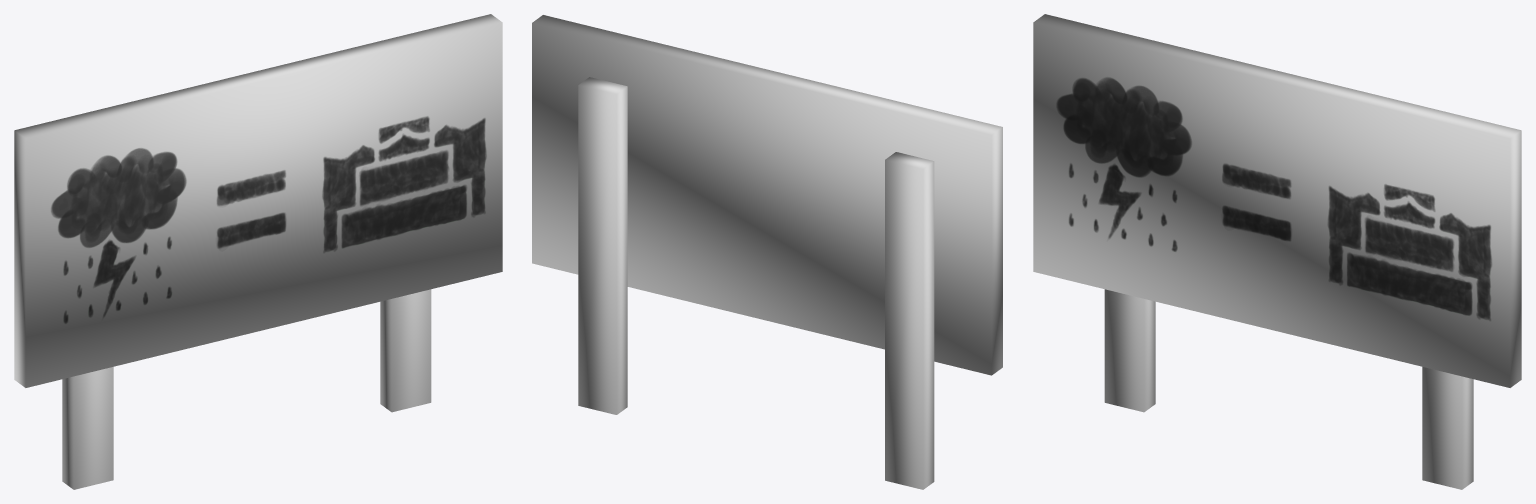
The model's file is wooden_sign.glb.
3 views of the same model, side by side, from view 1: azimuth 30°, elevation 25°; view 2: azimuth 150°, elevation 25°; view 3: azimuth 330°, elevation 25° (orthographic). The views are drawn at different scales.
Parts seen in each view (by area): view 1: stktex_generic_WoodA.png__, stktex_temple_floodWarning_a.png__; view 2: stktex_generic_WoodA.png__; view 3: stktex_generic_WoodA.png__, stktex_temple_floodWarning_a.png__.
Boxes of the visible parts, <box> form: stktex_generic_WoodA.png__: <box>14,14,502,489</box>; stktex_temple_floodWarning_a.png__: <box>51,116,486,323</box>; stktex_generic_WoodA.png__: <box>532,15,1002,489</box>; stktex_generic_WoodA.png__: <box>1033,14,1521,489</box>; stktex_temple_floodWarning_a.png__: <box>1056,77,1491,320</box>.
Bounding box in the file's own units: 12 × 9 × 1.05.
Materials: 2 (1 with a texture image).
